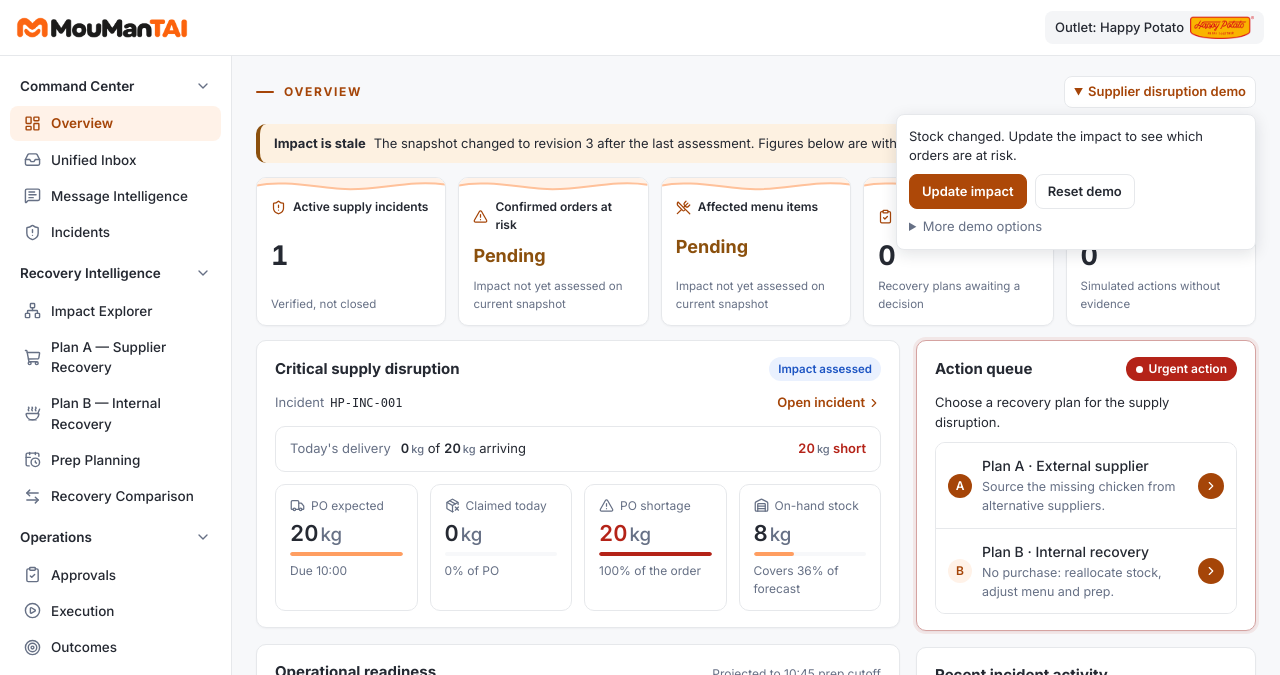
Test: Operations Overview › updates after a snapshot change: stale warning, then BREACH_RISK after re-assessment
Expected: the text "Impact is stale" is shown, [274, 134, 366, 153]
Expected: the text "Pending" below "Confirmed orders at risk" is shown, [473, 245, 546, 266]
Click the button "Update impact": coordinates (968, 191) [909, 174, 1027, 209]
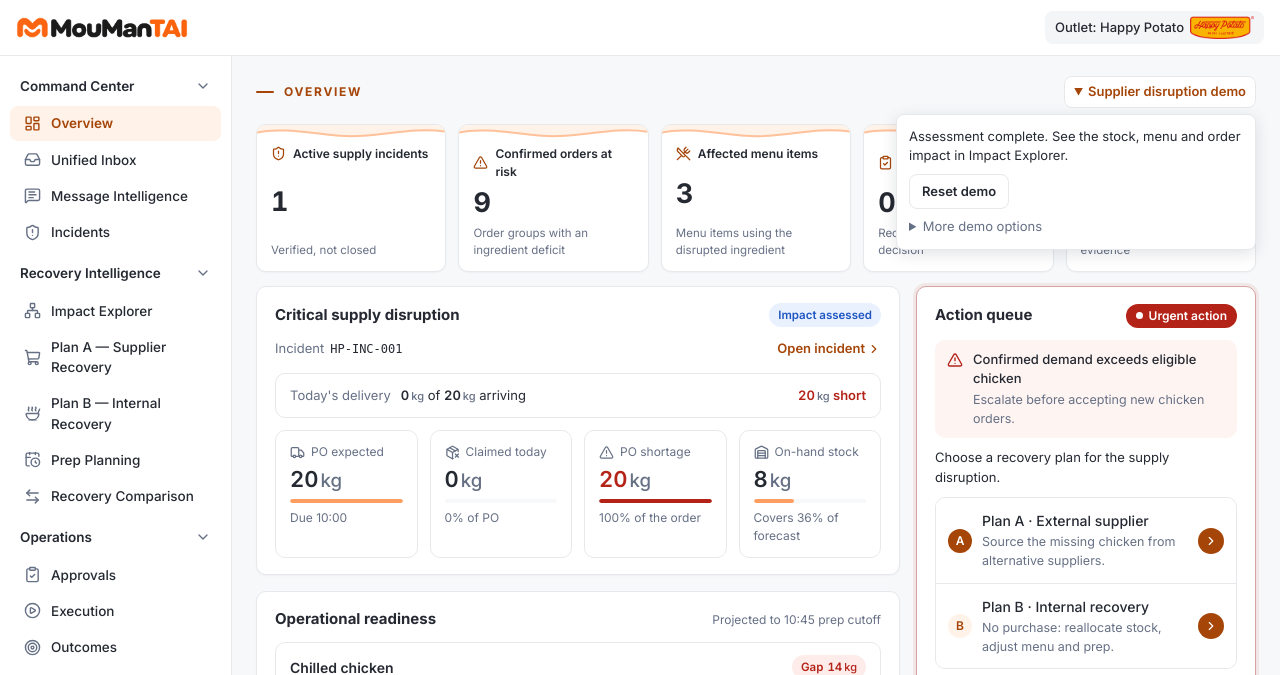
Expected: the text "9" is shown, [473, 186, 491, 218]
Expected: the text "Confirmed demand exceeds eligible chicken" is shown, [973, 350, 1225, 389]
